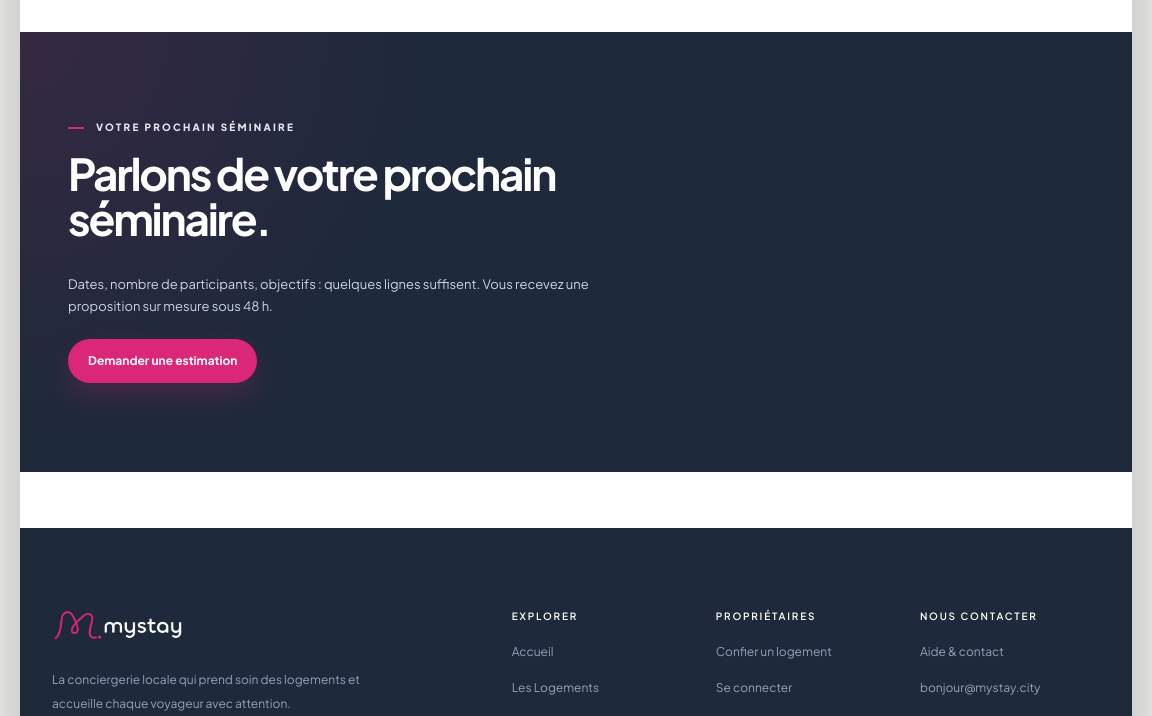
it: 031 AC-01-09 — /seminaires content › replaces every mailto CTA with buttons opening the seminar lead modal
(page scrolled)
Click the button "Demander une estimation" at (163, 361), box x1=68 y1=339 x2=258 y2=383
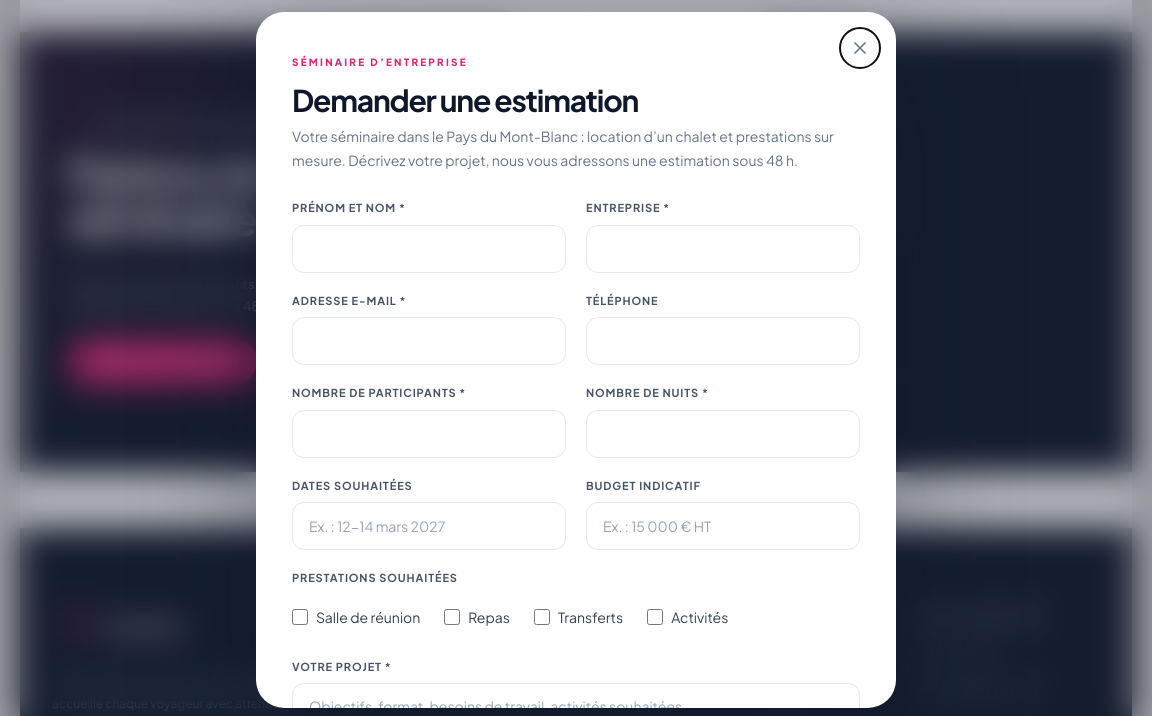
Now the dialog "Demander une estimation" shows "dans le Pays du Mont-Blanc", box x1=292 y1=127 x2=834 y2=169
